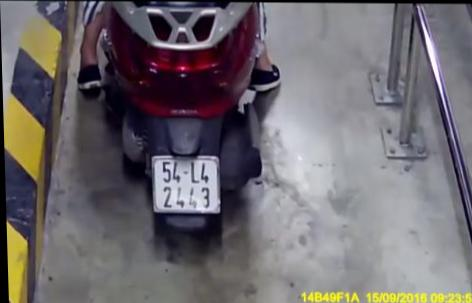LP: (146, 152, 222, 215)
